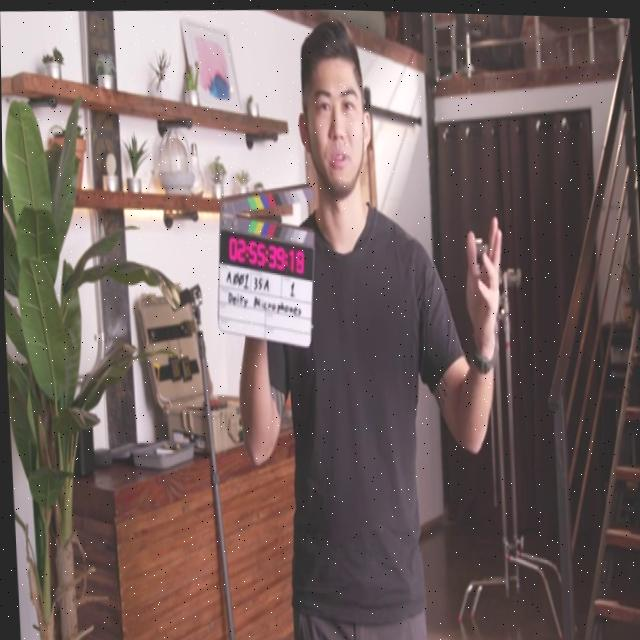Clapperboard: (211, 175, 318, 352)
